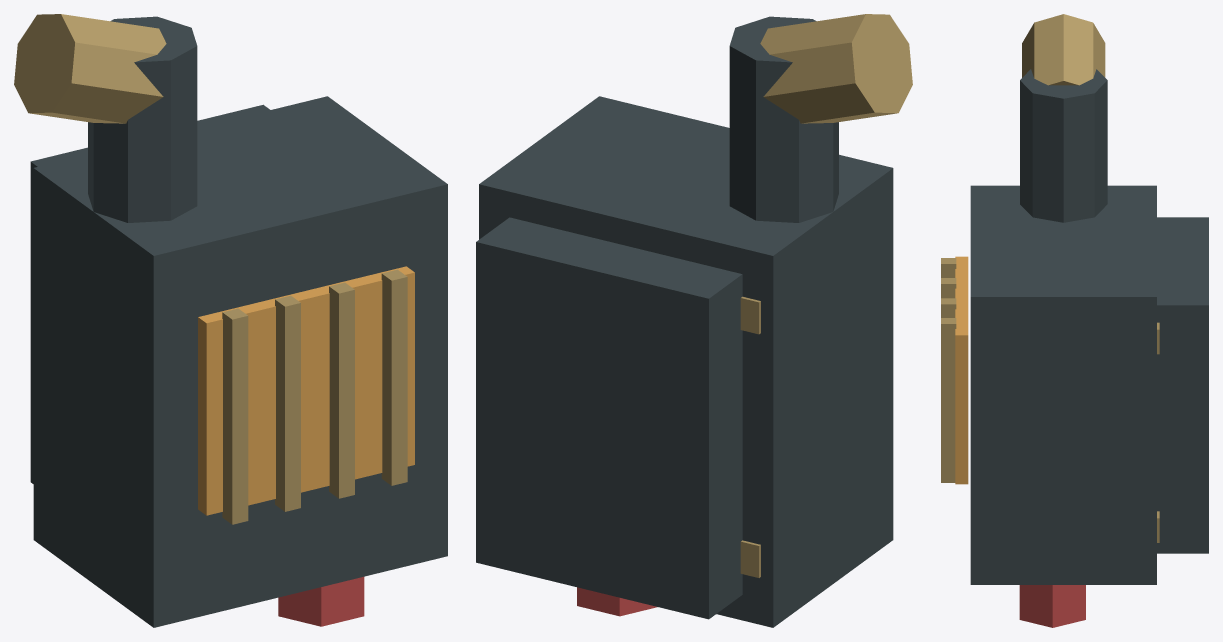
The model's file is Equip_Furnace.fbx.
The picture shows the model from 3 angles, left to right: view 1: azimuth 30°, elevation 25°; view 2: azimuth 150°, elevation 25°; view 3: azimuth 270°, elevation 25°; orthographic projection. The views are drawn at different scales.
Parts seen in each view (by area): view 1: Equip_Furnace; view 2: Equip_Furnace; view 3: Equip_Furnace.
Part boxes in pixels (x1,y1,x2,y2): Equip_Furnace: (14,14,447,627); Equip_Furnace: (476,14,912,627); Equip_Furnace: (941,14,1208,627).
Size of the model in its own units: 0.2933 by 0.5056 by 0.2445.
